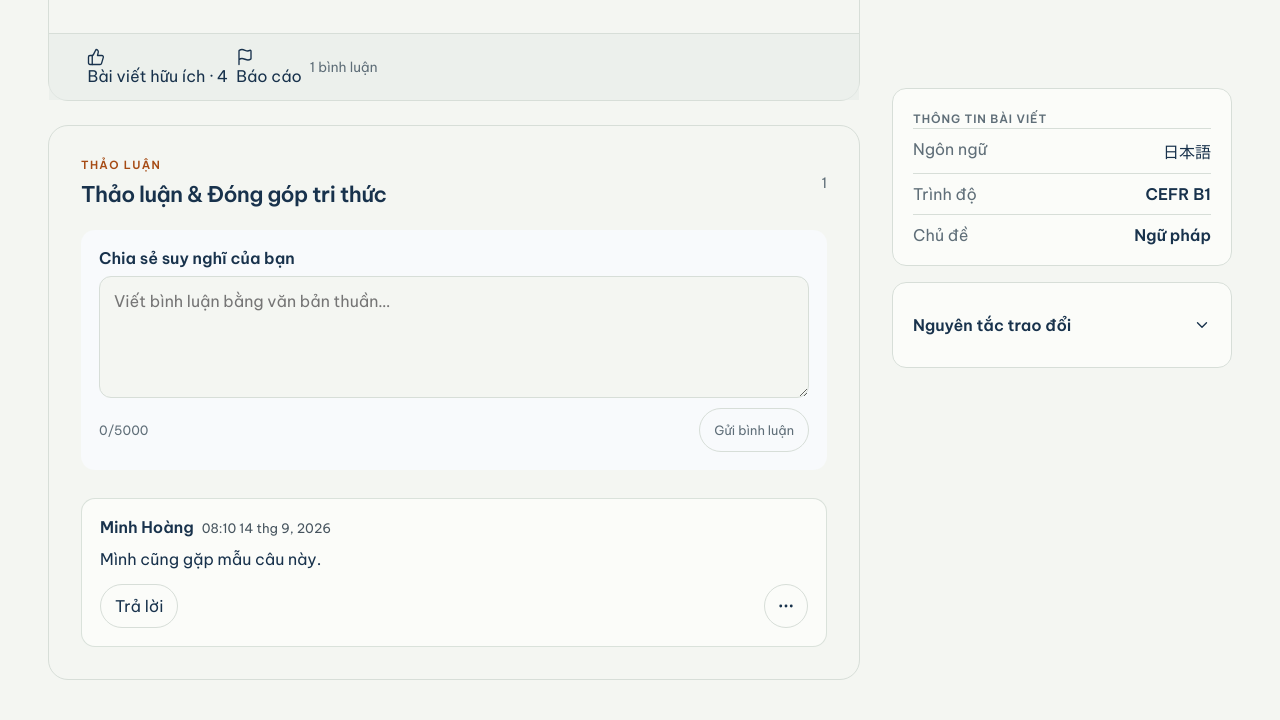
Test: CommunityPostDetailPageView › creates a top-level reply and reconciles it into the parent thread
(page scrolled)
Check: the text "Minh Hoàng" is shown, box [100, 517, 194, 537]
Step 1. Click the button "Trả lời" → (139, 606), box [100, 584, 178, 628]
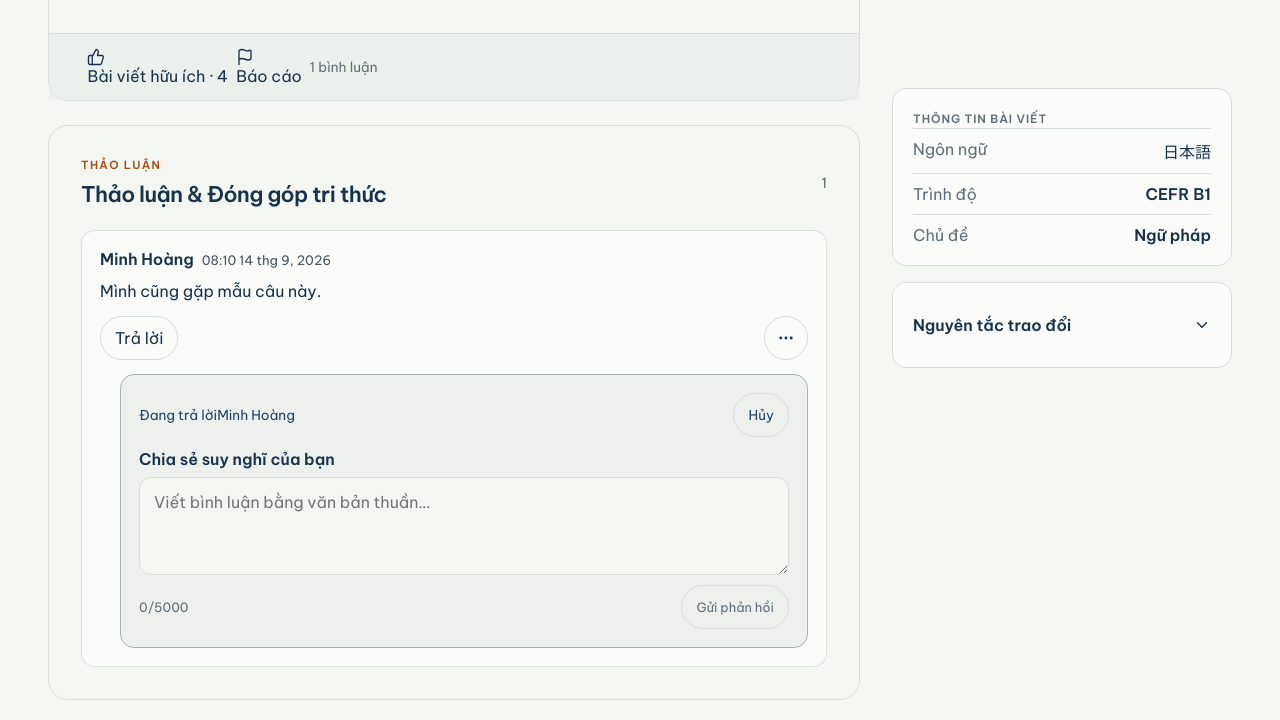
Step 2. Type "Mình dùng mẫu này trong phần viết." into the text box labelled "Chia sẻ suy nghĩ của bạn" → (464, 526), box [139, 477, 789, 575]
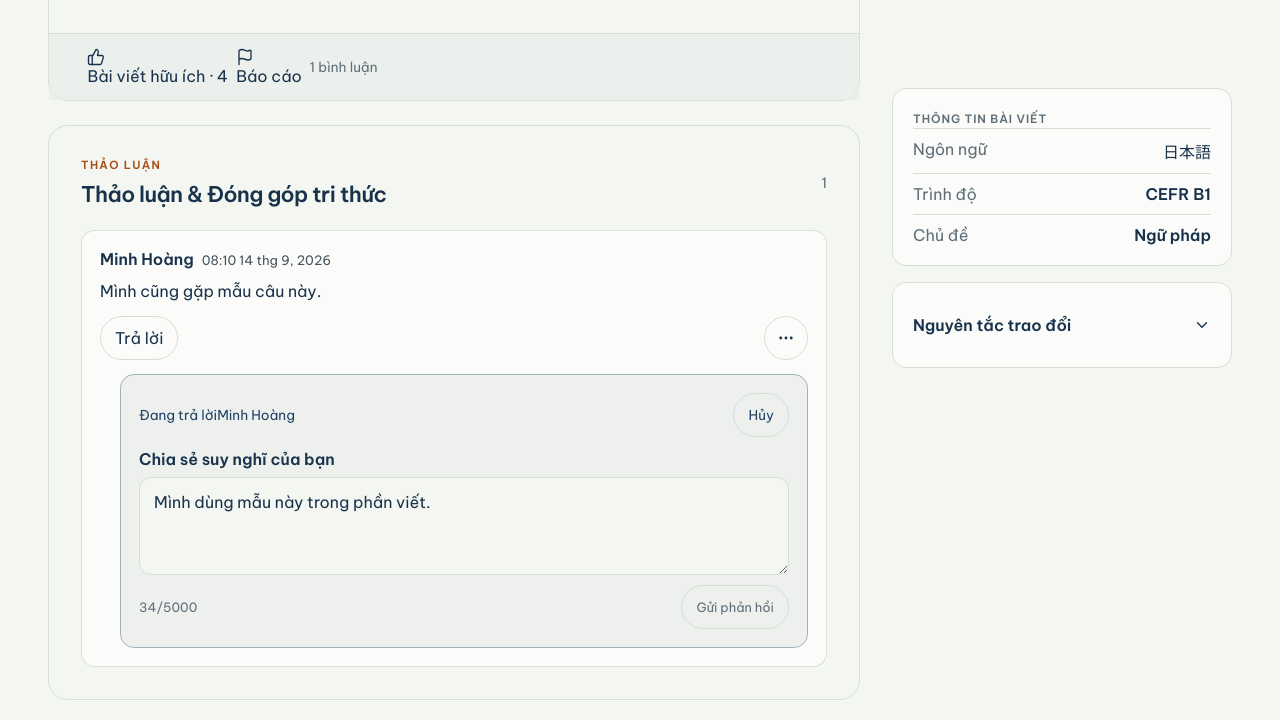
Step 3. Click the button "Gửi phản hồi" → (735, 607), box [682, 585, 789, 629]
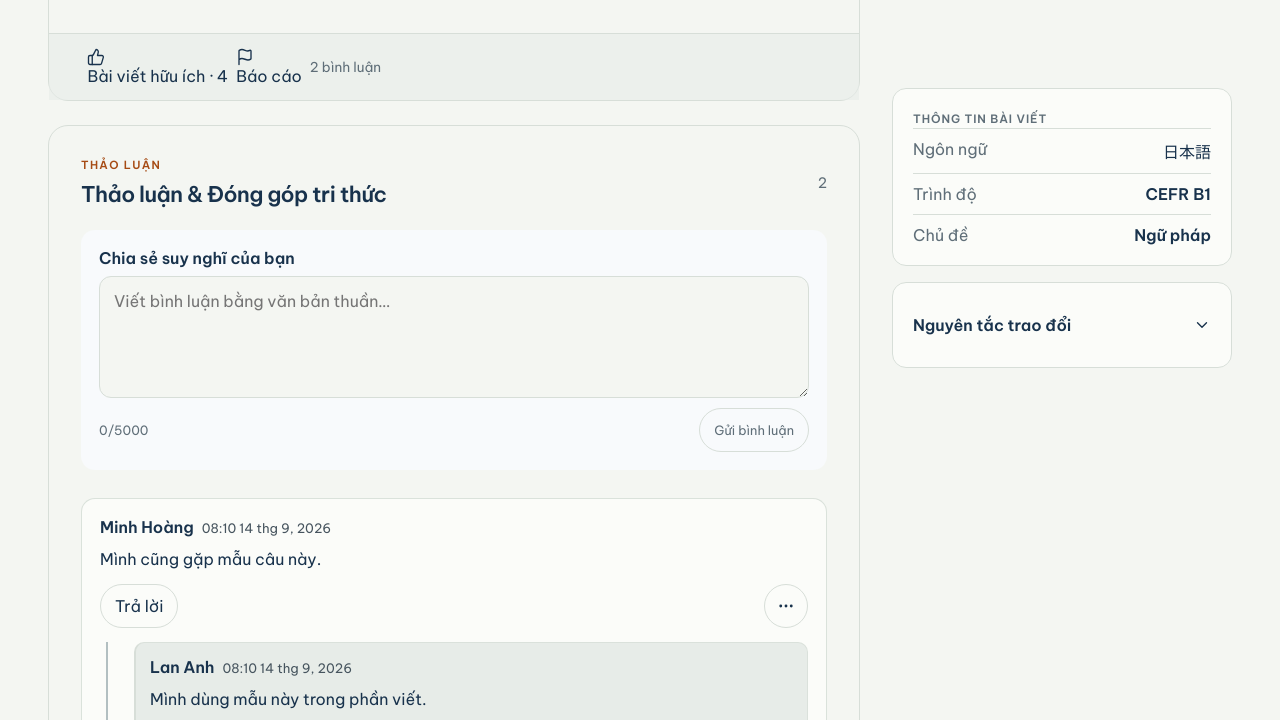
Check: the text "Mình dùng mẫu này trong phần viết." is shown, box [150, 689, 427, 709]
